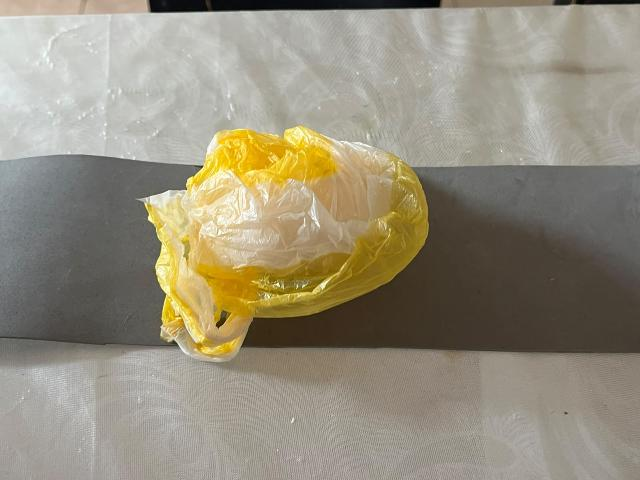LDPE: (120, 100, 452, 375)
